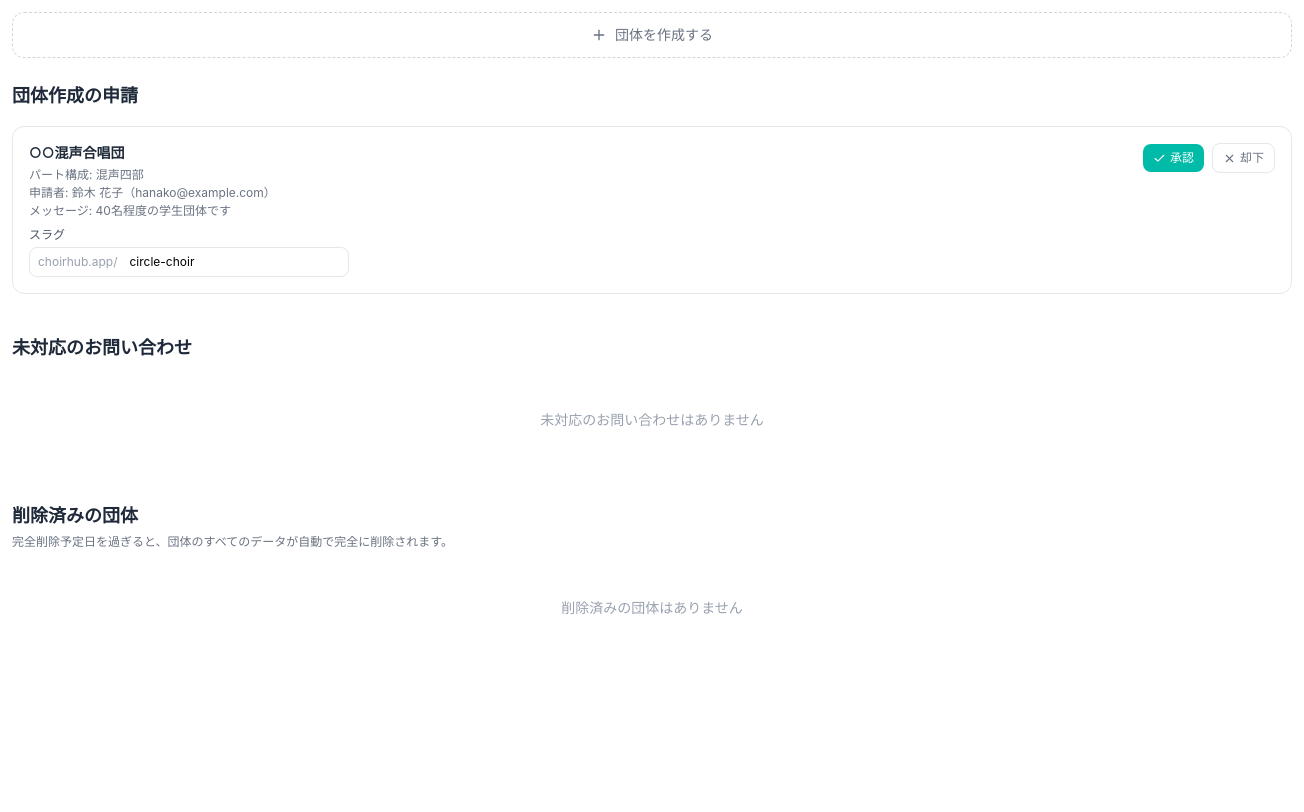
Test case: AdminPage（承認・却下） › 承認をクリックすると申請時のスラグでapproveが呼ばれ一覧から消える
Expected: the text "○○混声合唱団" is shown, [29,144,125,161]
Step 1. Click the button labelled "承認" → click(1174, 158), box [1143,144,1204,172]
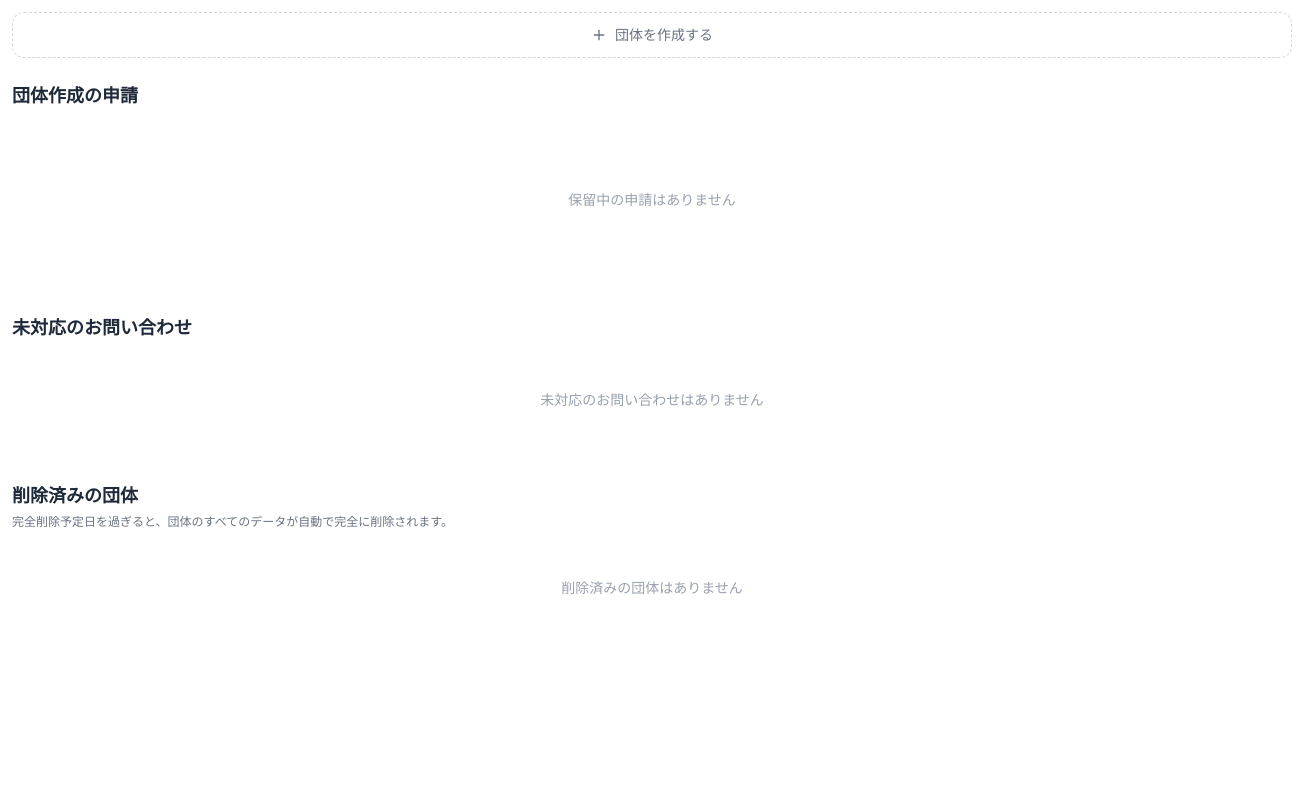
Now the text "○○混声合唱団" is gone
